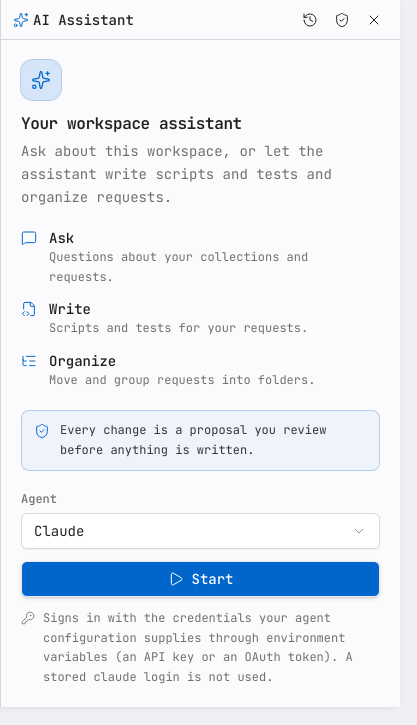
Test case: AssistantPanel › switches between the chat and the conversation history
Click the button named "Conversation history" at point(310, 20), box x1=296 y1=6 x2=324 y2=34
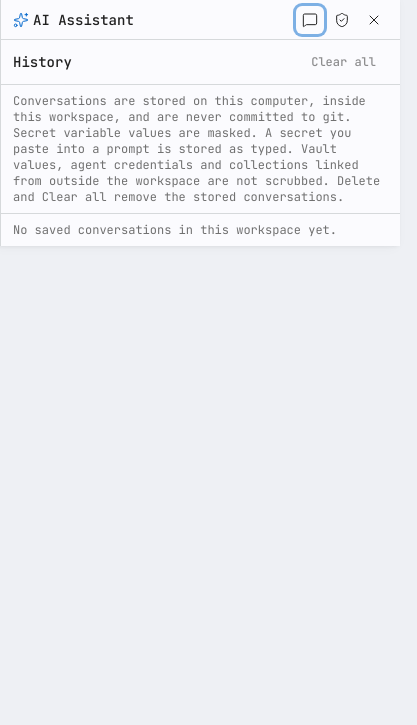
Expected: the list item "No saved conversations in this workspace yet." is shown, x1=13 y1=222 x2=337 y2=238
Click the button named "Back to the chat" at point(310, 20), box x1=296 y1=6 x2=324 y2=34
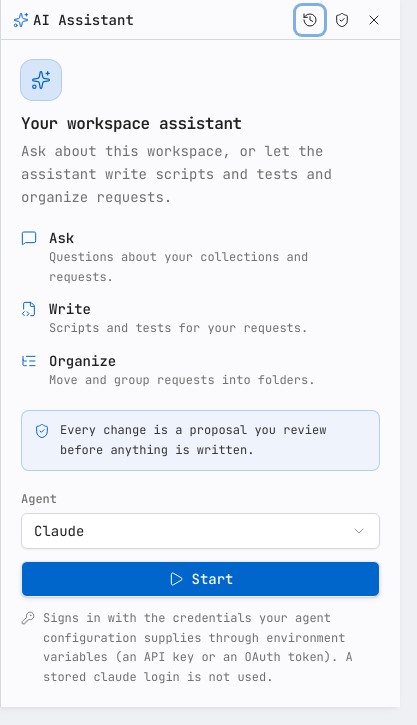
Expected: the button "Start" is shown, x1=21 y1=561 x2=380 y2=597
